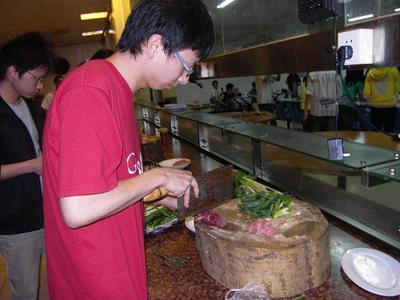person: (42, 2, 214, 300)
